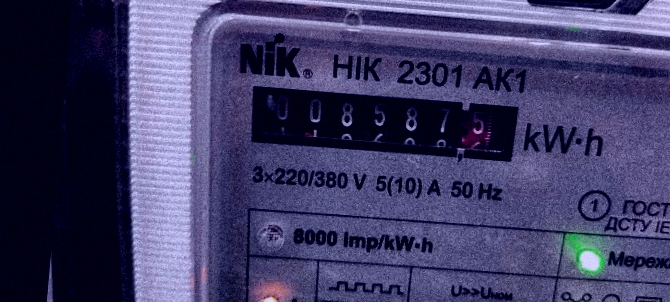0: (272, 91, 291, 121), (306, 95, 325, 124)
5: (469, 107, 489, 138), (370, 99, 389, 128)
7: (433, 103, 453, 135)
8: (401, 102, 421, 133), (338, 98, 356, 128)
screen: (229, 67, 537, 175)
